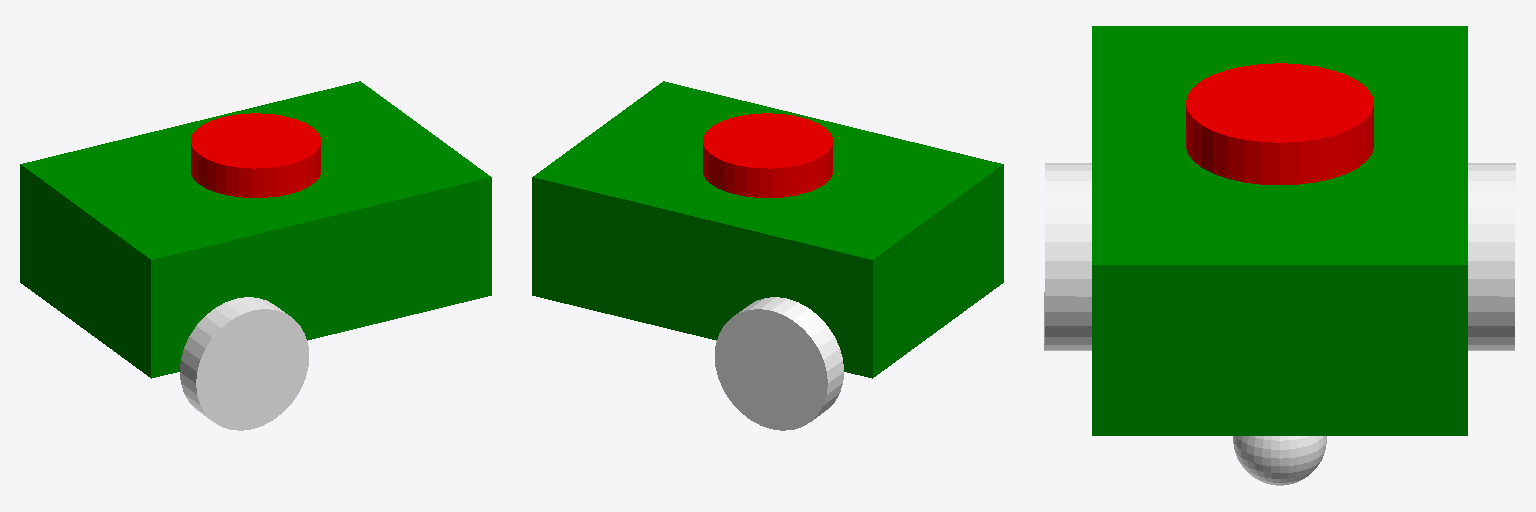
robot.urdf — superbot:
<?xml version="1.0"?>

<robot name="superbot">

    <material name="red">
        <color rgba="1.0 0.0 0.0 1.0"/>
    </material>

    <material name="green">
        <color rgba="0 0.6 0 1"/>
    </material>

    <material name="white">
        <color rgba="1 1 1 1"/>
    </material>

    <link name="base_footprint"/>

    <link name="base_link">
        <visual>
            <geometry>
                <box size="0.6 0.4 0.2"/>
            </geometry>
            <origin xyz="0 0 0.1" rpy="0 0 0"/>
            <material name="green"/>
        </visual>
    </link>

    <link name="lidar">
        <visual>
            <geometry>
                <cylinder radius="0.1" length="0.05"/>
            </geometry>
            <origin xyz="0 0 0" rpy="0 0 0"/>
            <material name="red"/>
        </visual>
    </link>

    <link name="left_wheel">
        <visual>
            <geometry>
                <cylinder radius="0.1" length="0.05"/>
            </geometry>
            <origin xyz="0 0 0" rpy="1.57 0 0"/>
            <material name="white"/>
        </visual>
    </link>

    <link name="right_wheel">
        <visual>
            <geometry>
                <cylinder radius="0.1" length="0.05"/>
            </geometry>
            <origin xyz="0 0 0" rpy="1.57 0 0"/>
            <material name="white"/>
        </visual>
    </link>

    <link name="caster_wheel">
        <visual>
            <geometry>
                <sphere radius="0.05"/>
            </geometry>
            <origin xyz="0 0 0" rpy="0 0 0"/>
            <material name="white"/>
        </visual>
    </link>

    <joint name="base_joint" type="fixed">
        <parent link="base_footprint"/>
        <child link="base_link"/>
        <origin xyz="0 0 0.1" rpy="0 0 0"/>
    </joint>

    <joint name="base_lidar_joint" type="fixed">
        <parent link="base_link"/>
        <child link="lidar"/>
        <origin xyz="0 0 0.225" rpy="0 0 0"/>
    </joint>

    <joint name="base_left_wheel_joint" type="continuous">
        <parent link="base_link"/>
        <child link="left_wheel"/>
        <origin xyz="-0.15 0.225 0" rpy="0 0 0"/>
        <axis xyz="0 1 0"/>
    </joint>

    <joint name="base_right_wheel_joint" type="continuous">
        <parent link="base_link"/>
        <child link="right_wheel"/>
        <origin xyz="-0.15 -0.225 0" rpy="0 0 0"/>
        <axis xyz="0 1 0"/>
    </joint>

    <joint name="base_caster_wheel_joint" type="fixed">
        <parent link="base_link"/>
        <child link="caster_wheel"/>
        <origin xyz="0.2 0 -0.05" rpy="0 0 0"/>
    </joint>
</robot>

--- What the picture shows (computed from the rendered views, not written in the file) ---
The picture shows the robot from 3 angles, left to right: view 1: azimuth 30°, elevation 25°; view 2: azimuth 150°, elevation 25°; view 3: azimuth 270°, elevation 25°; orthographic projection.
Robot: superbot — 6 links, 5 joints (2 continuous, 3 fixed); root link base_footprint; default pose: all joints at 0.
Visible links, largest first — view 1: base_link, right_wheel, lidar; view 2: base_link, left_wheel, lidar; view 3: base_link, lidar, right_wheel, left_wheel, caster_wheel.
Boxes of the visible links, x1=… form: base_link: x1=20, y1=81, x2=491, y2=378; right_wheel: x1=180, y1=297, x2=308, y2=430; lidar: x1=191, y1=113, x2=320, y2=197; base_link: x1=532, y1=81, x2=1003, y2=378; left_wheel: x1=715, y1=297, x2=843, y2=430; lidar: x1=703, y1=113, x2=832, y2=197; base_link: x1=1092, y1=26, x2=1467, y2=435; lidar: x1=1186, y1=63, x2=1373, y2=184; right_wheel: x1=1044, y1=163, x2=1091, y2=350; left_wheel: x1=1468, y1=163, x2=1515, y2=350; caster_wheel: x1=1233, y1=436, x2=1326, y2=485.
Bounding box of the posed robot: 0.6 × 0.5002 × 0.35 m (x, y, z).
Geometry: primitives only (box / cylinder / sphere), no mesh files.
